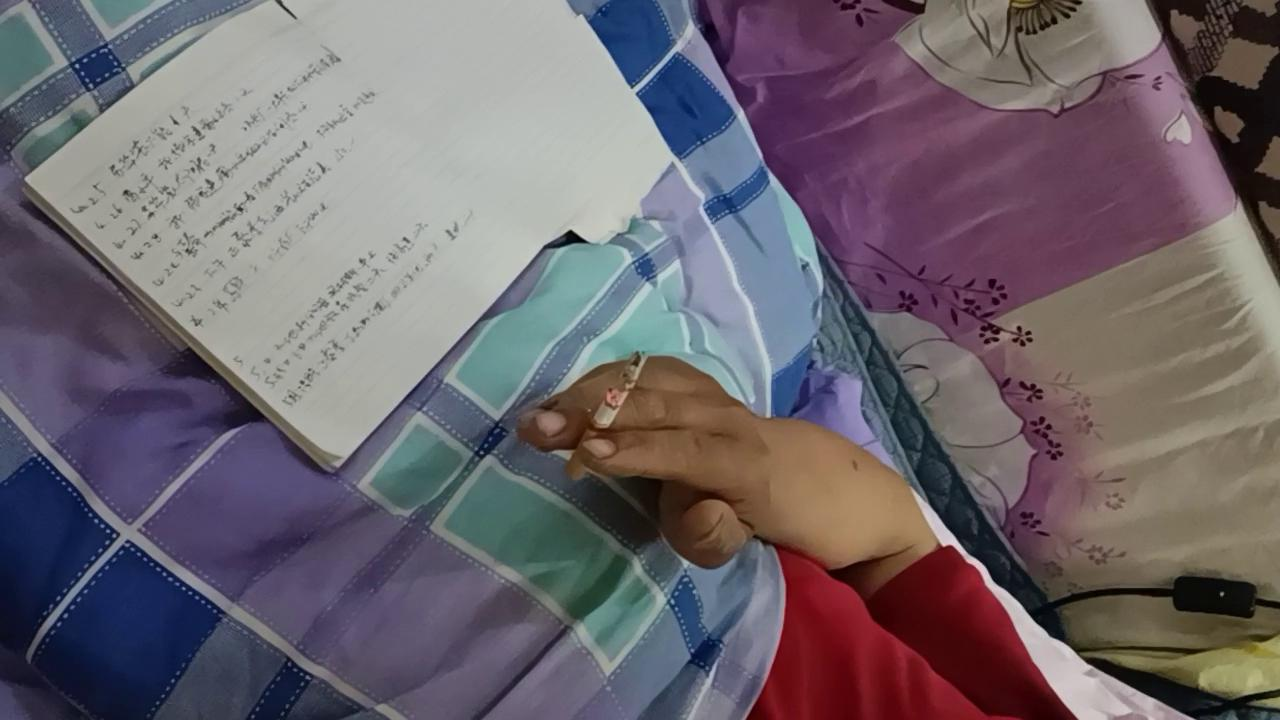smoke: (562, 350, 648, 484)
